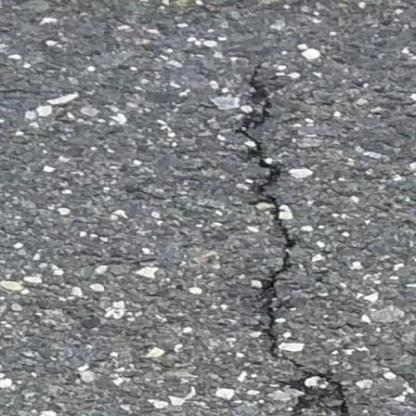Cracks: (214, 63, 373, 416)
